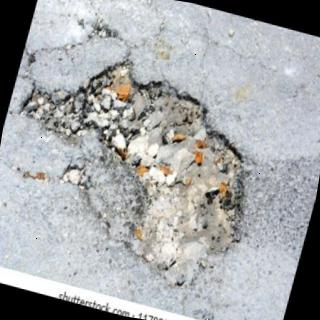pothole: (25, 61, 244, 287)
